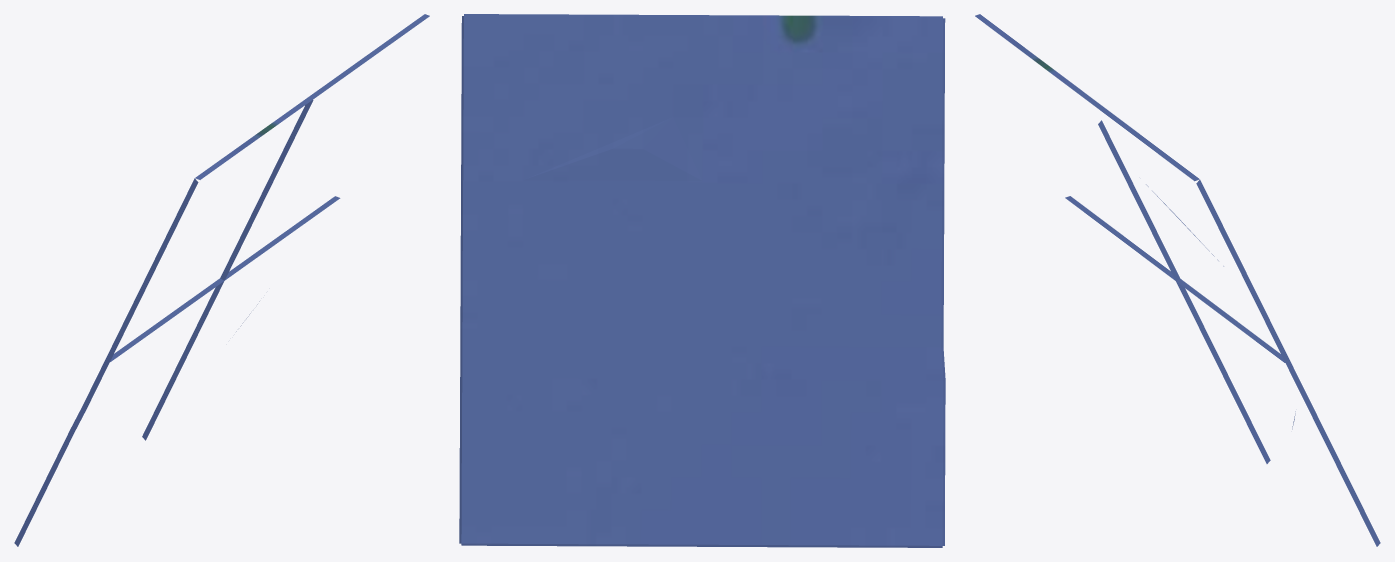
3 renders of one model, left to right at view 1: azimuth 30°, elevation 25°; view 2: azimuth 150°, elevation 25°; view 3: azimuth 270°, elevation 25°, orthographic. The views are drawn at different scales.
Size of the model in its own units: 39564 by 35921 by 32221.
Materials: 1 (1 with a texture image).
